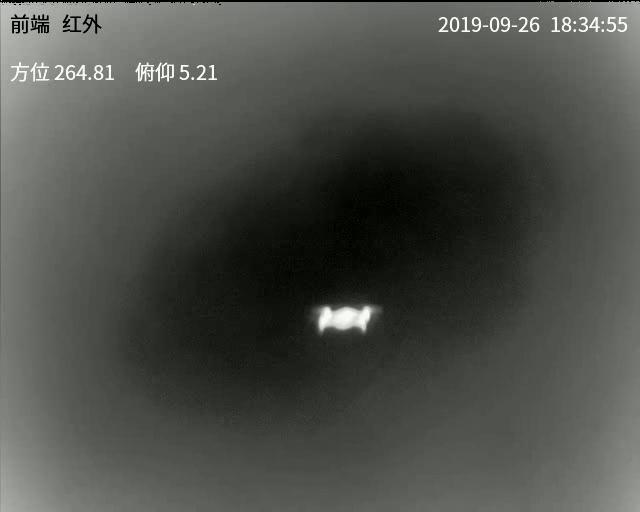DRONE: (315, 303, 373, 333)
